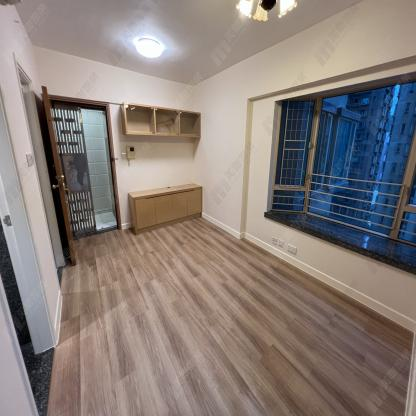Cupboard: (128, 183, 203, 235), (119, 100, 201, 138)
Windowsill: (264, 69, 416, 275)
